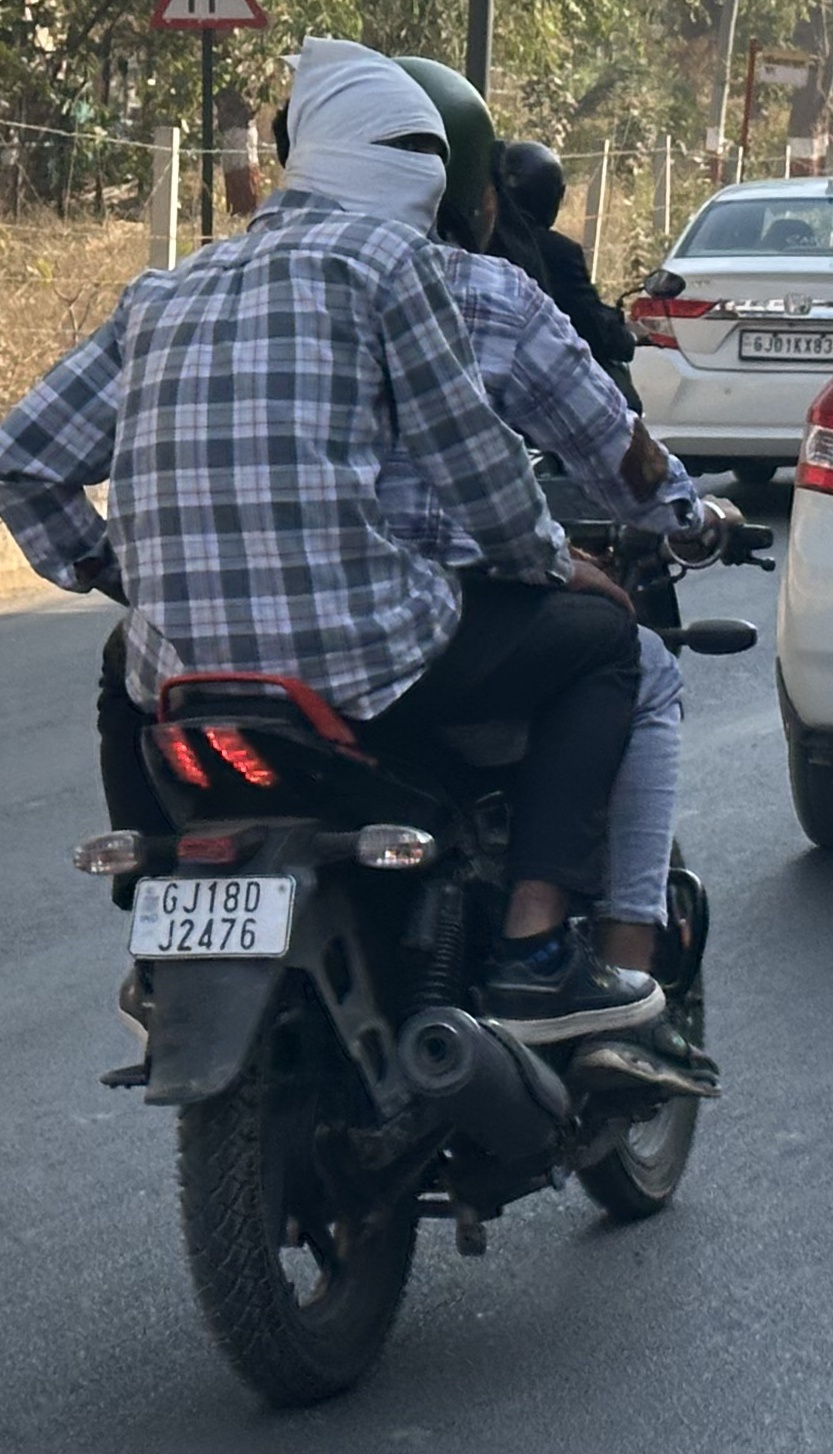BikeWithRider: (0, 24, 793, 1428)
Helmet: (361, 42, 515, 256)
NoHelmet: (249, 27, 476, 253)
